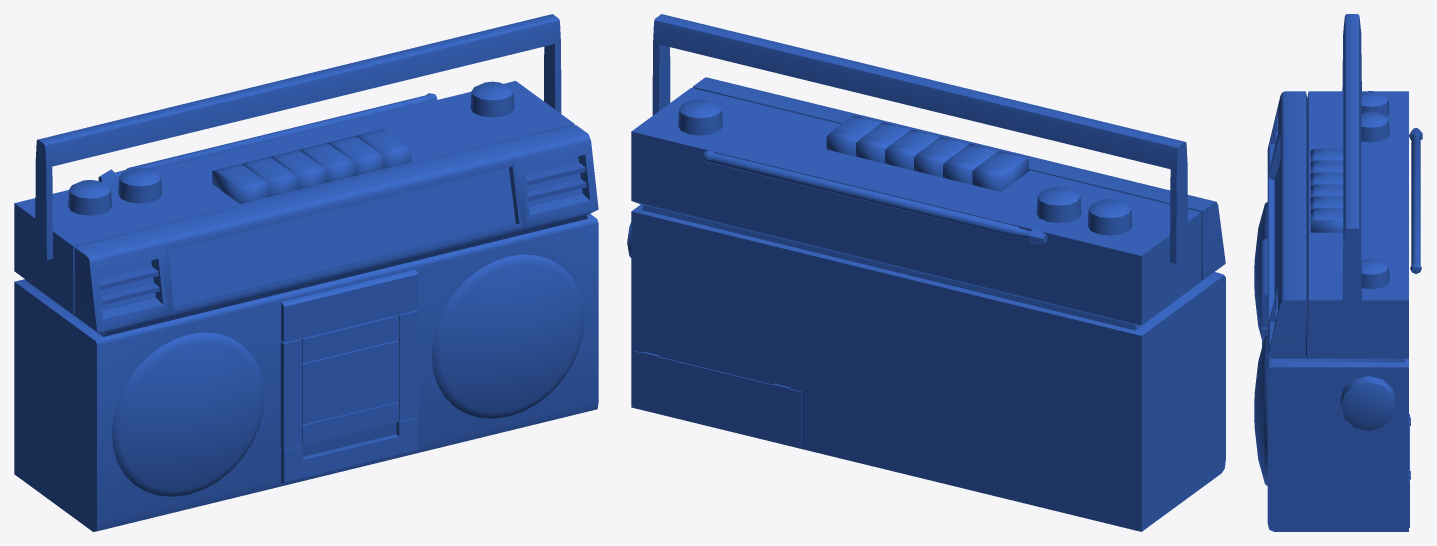
File: RetroElectronic_Boombox.fbx
3 renders of one model, left to right at view 1: azimuth 30°, elevation 25°; view 2: azimuth 150°, elevation 25°; view 3: azimuth 270°, elevation 25°, orthographic. The views are drawn at different scales.
Parts seen in each view (by area): view 1: boombox; view 2: boombox; view 3: boombox.
Boxes of the visible parts, box(x1,y1,x2,y2) form: boombox: box(14, 14, 598, 531); boombox: box(627, 14, 1225, 531); boombox: box(1254, 14, 1422, 531).
Bounding box in the file's own units: 44.24 × 14.46 × 28.97.
